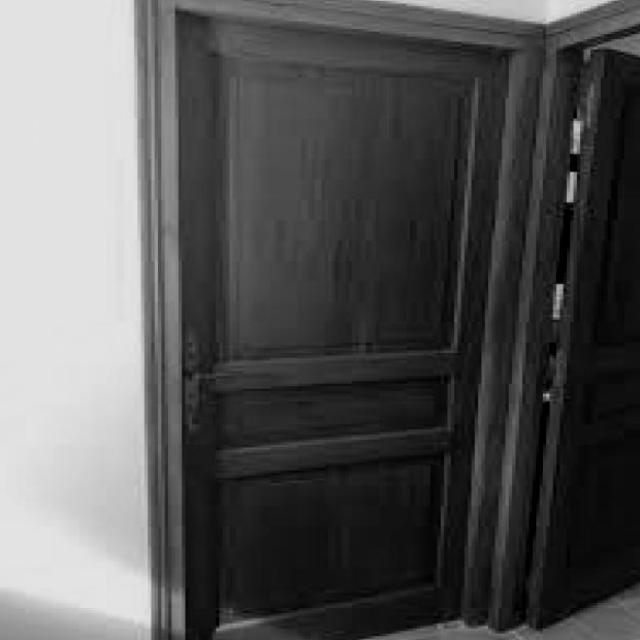door: (173, 10, 511, 637)
